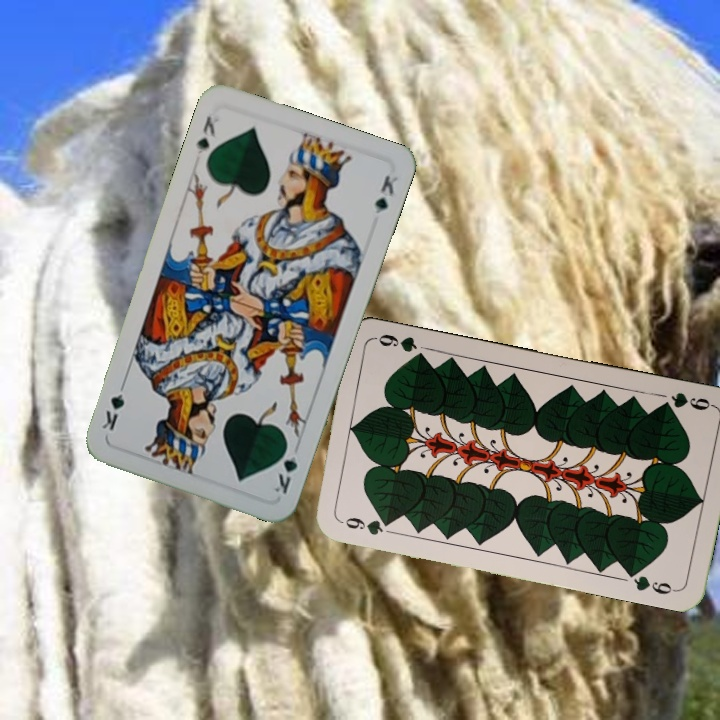G9: (655, 388, 716, 413), (336, 513, 395, 538)
GK: (270, 439, 300, 496), (191, 112, 222, 164)
